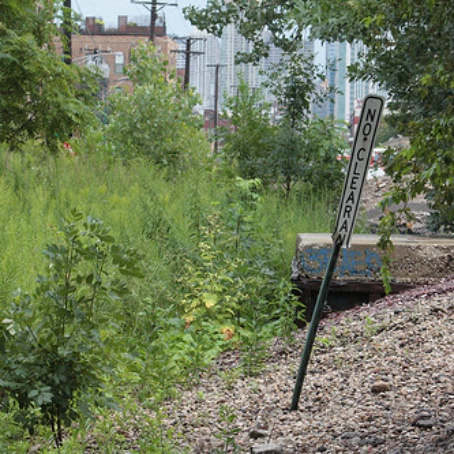building: (57, 19, 177, 114)
sign: (332, 95, 382, 248)
vegetation: (1, 65, 294, 454)
